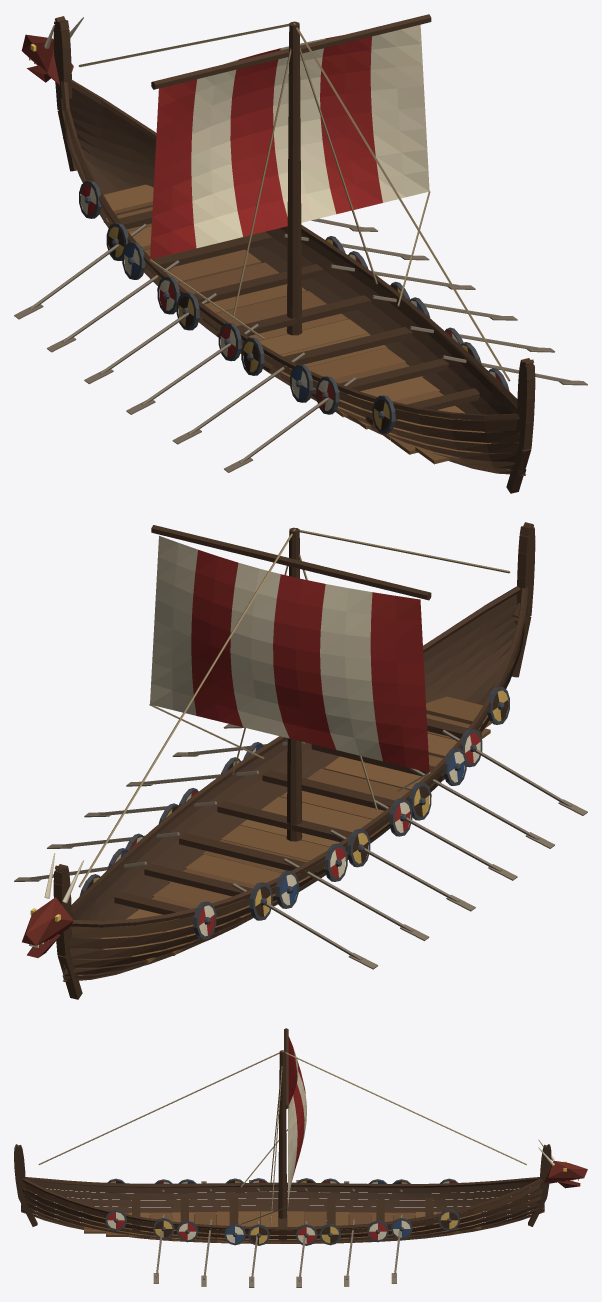
File: Longship.glb
3 views of the same model, one above another, from view 1: azimuth 30°, elevation 25°; view 2: azimuth 150°, elevation 25°; view 3: azimuth 270°, elevation 25° (orthographic). The views are drawn at different scales.
Parts seen in each view (by area): view 1: Mat_Wood_6e5640, Mat_Wood_493322, Mat_Cloth_932824, Mat_Wood_443022, Mat_Cloth_a5968d, Mat_Cloth_e1d3b3, Mat_Metal_424448, Mat_Thatch_b09259, Mat_Thatch_d3a953; view 2: Mat_Wood_6e5640, Mat_Cloth_932824, Mat_Wood_493322, Mat_Wood_443022, Mat_Cloth_a5968d, Mat_Cloth_e1d3b3, Mat_Metal_424448, Mat_Thatch_b09259, Mat_Thatch_d3a953; view 3: Mat_Wood_443022, Mat_Wood_6e5640, Mat_Wood_493322, Mat_Metal_424448, Mat_Cloth_932824, Mat_Thatch_b09259, Mat_Cloth_a5968d, Mat_Cloth_e1d3b3.
Boxes of the visible parts, box(x1,y1,x2,y2) form: Mat_Wood_6e5640: box(14, 124, 587, 475); Mat_Wood_493322: box(53, 14, 535, 493); Mat_Cloth_932824: box(21, 34, 501, 410); Mat_Wood_443022: box(63, 80, 526, 475); Mat_Cloth_a5968d: box(29, 17, 429, 399); Mat_Cloth_e1d3b3: box(80, 24, 495, 410); Mat_Metal_424448: box(79, 180, 509, 433); Mat_Thatch_b09259: box(78, 22, 510, 381); Mat_Thatch_d3a953: box(30, 44, 467, 429); Mat_Wood_6e5640: box(14, 653, 587, 981); Mat_Cloth_932824: box(22, 549, 480, 957); Mat_Wood_493322: box(53, 522, 535, 999); Mat_Wood_443022: box(62, 594, 525, 981); Mat_Cloth_a5968d: box(29, 543, 470, 947); Mat_Cloth_e1d3b3: box(136, 536, 480, 936); Mat_Metal_424448: box(79, 686, 509, 939); Mat_Thatch_b09259: box(78, 529, 510, 887); Mat_Thatch_d3a953: box(30, 690, 507, 921); Mat_Wood_443022: box(21, 1179, 544, 1243); Mat_Wood_6e5640: box(21, 1180, 544, 1287); Mat_Wood_493322: box(14, 1028, 551, 1242); Mat_Metal_424448: box(105, 1178, 460, 1245); Mat_Cloth_932824: box(107, 1048, 587, 1243); Mat_Thatch_b09259: box(38, 1051, 526, 1243); Mat_Cloth_a5968d: box(157, 1036, 578, 1243); Mat_Cloth_e1d3b3: box(107, 1059, 455, 1243).
Size of the model in its own units: 21.31 by 17.05 by 48.22.
1 material, 1 textured.
